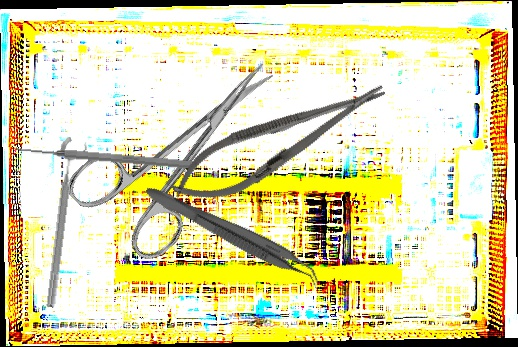Fixation Ring: (41, 136, 90, 310)
Iris Scissors: (60, 28, 312, 274)
Needle Holder: (162, 64, 397, 220)
Pusher: (15, 143, 195, 171)
Tissue Forceps: (138, 182, 328, 290)
